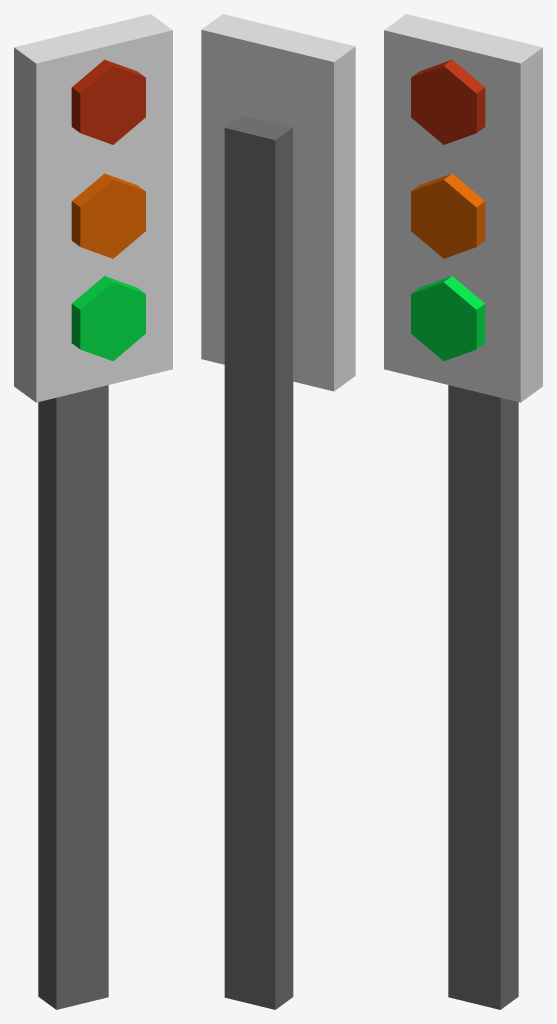
File: PR_TrafficLight1_01.fbx
3 renders of one model, left to right at view 1: azimuth 30°, elevation 25°; view 2: azimuth 150°, elevation 25°; view 3: azimuth 330°, elevation 25°, orthographic. The views are drawn at different scales.
Visible parts, largest first — view 1: PR_TrafficLight1_01, Cube.009, Cylinder.007, Cylinder.008, Cylinder.006; view 2: PR_TrafficLight1_01, Cube.009; view 3: PR_TrafficLight1_01, Cube.009, Cylinder.007, Cylinder.008, Cylinder.006.
Boxes of the visible parts, bbox=[...] form: PR_TrafficLight1_01: bbox=[38, 385, 108, 1009]; Cube.009: bbox=[14, 14, 172, 402]; Cylinder.007: bbox=[71, 173, 145, 258]; Cylinder.008: bbox=[71, 276, 145, 361]; Cylinder.006: bbox=[71, 59, 145, 144]; PR_TrafficLight1_01: bbox=[224, 115, 293, 1009]; Cube.009: bbox=[201, 14, 355, 391]; PR_TrafficLight1_01: bbox=[448, 385, 518, 1009]; Cube.009: bbox=[384, 14, 542, 402]; Cylinder.007: bbox=[411, 173, 485, 258]; Cylinder.008: bbox=[411, 276, 485, 361]; Cylinder.006: bbox=[411, 59, 485, 144].
Size of the model in its own units: 71.91 by 489 by 44.55.
